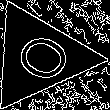O_SE: (2, 25, 76, 89)
